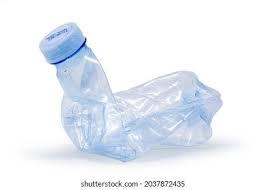plastic: (46, 23, 225, 160)
